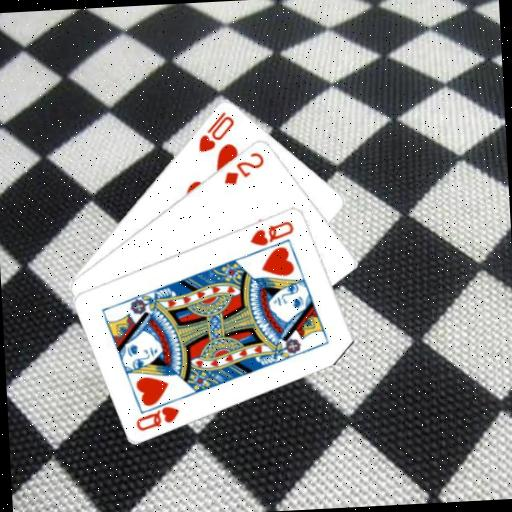10H: (194, 108, 237, 154)
2D: (220, 148, 268, 187)
QH: (132, 393, 185, 433), (247, 217, 297, 248)
